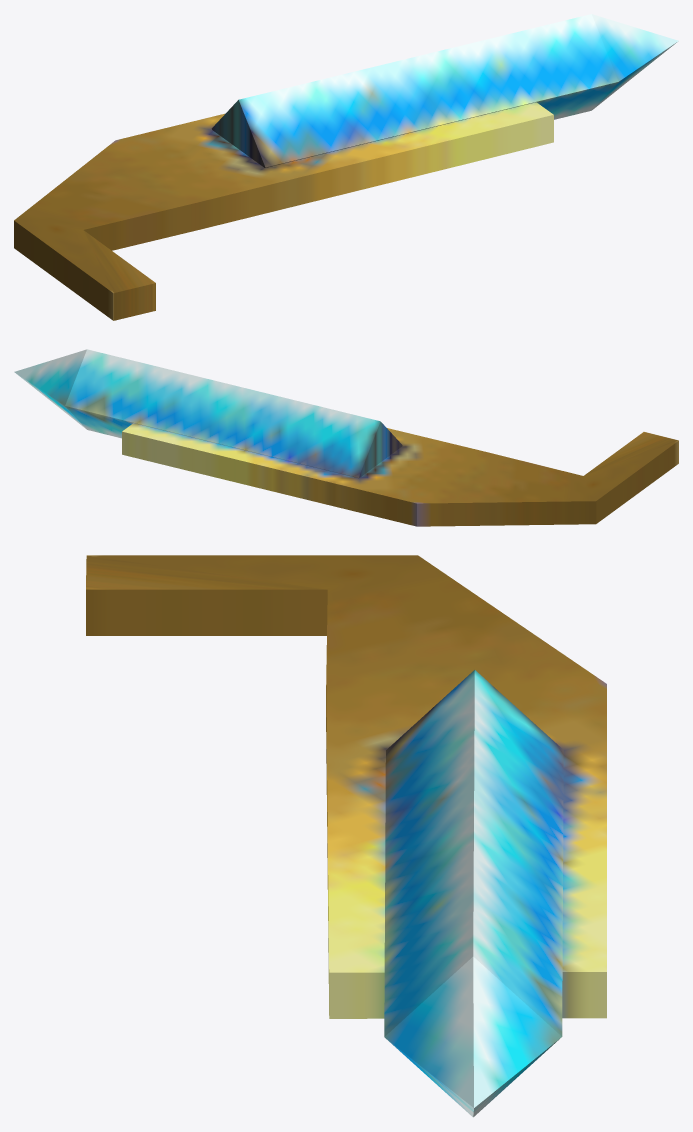
The picture shows the model from 3 angles, top to bottom: view 1: azimuth 30°, elevation 25°; view 2: azimuth 150°, elevation 25°; view 3: azimuth 270°, elevation 25°; orthographic projection. The views are drawn at different scales.
Visible parts, largest first — view 1: aw219; view 2: aw219; view 3: aw219.
Boxes of the visible parts, left/top/right/bottom form: aw219: left=14, top=14, right=678, bottom=320; aw219: left=14, top=349, right=678, bottom=526; aw219: left=86, top=555, right=606, bottom=1117.
Size of the model in its own units: 21.98 by 2.98 by 8.73.
Materials: 1 (1 with a texture image).
